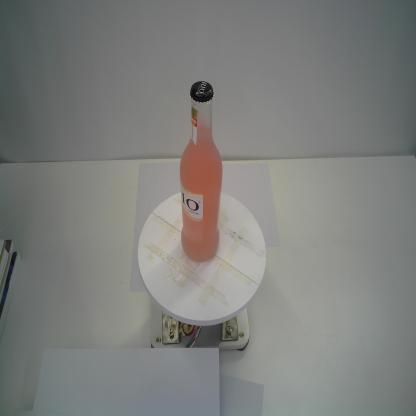Alcohol: (179, 78, 224, 266)
